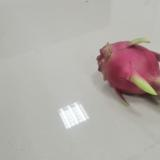pitaya: (98, 38, 160, 105)
